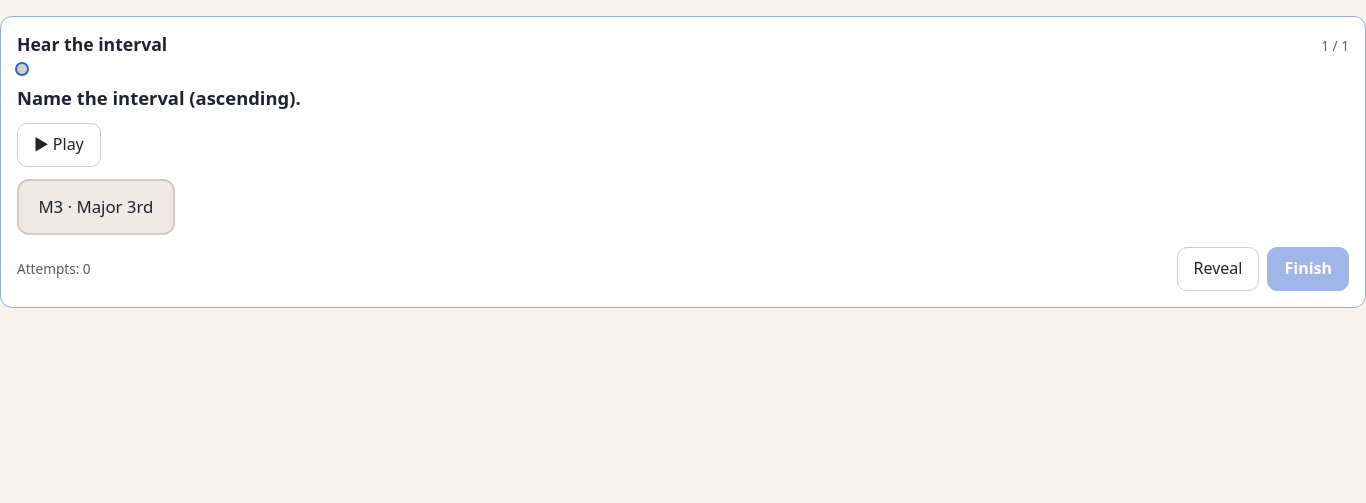
Test case: ExerciseShell › ear-interval renders choices and evaluates
This screenshot has width=1366, height=503.
Click the button "M3 · Major 3rd" at [96, 207], box x1=17 y1=179 x2=175 y2=235
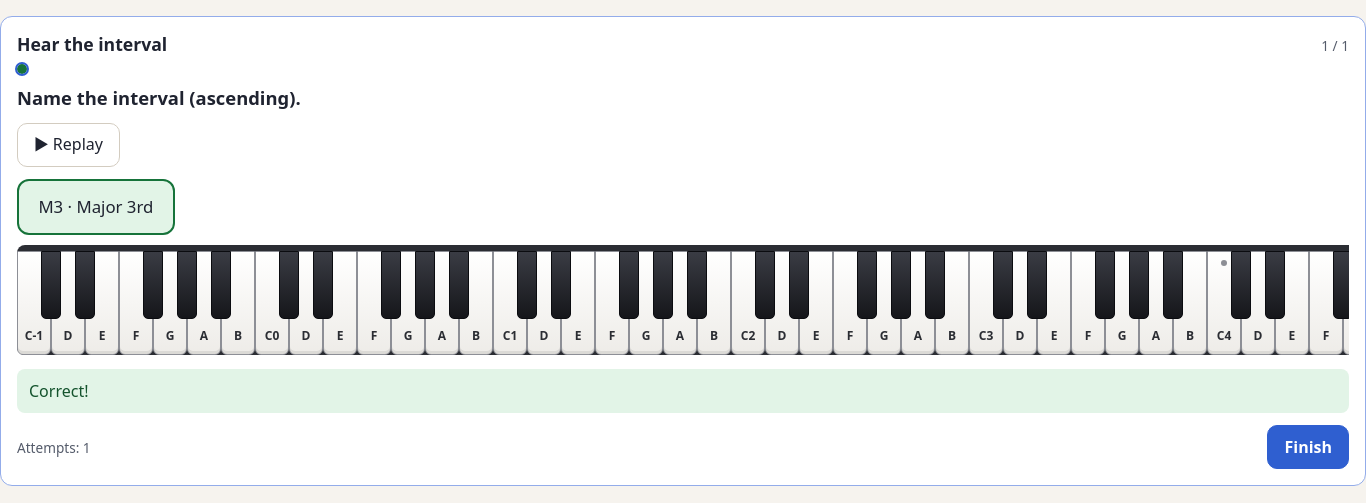
Result: the message shows "Correct" at x1=29 y1=380 x2=88 y2=402
